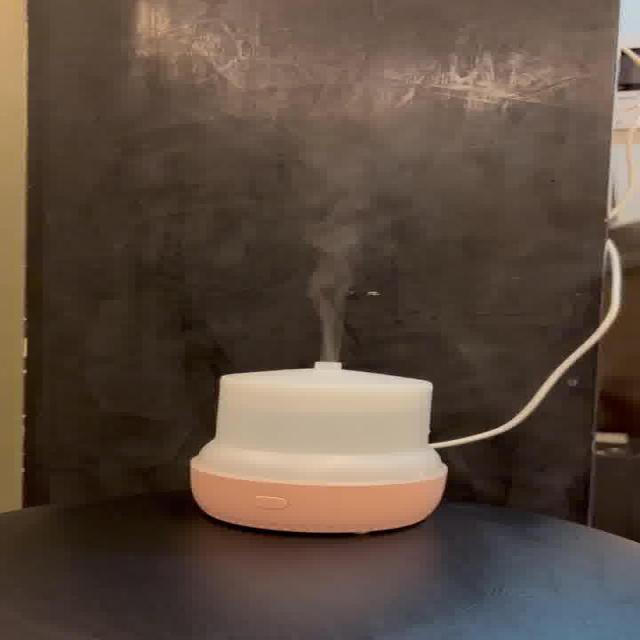fire: (284, 90, 432, 354)
